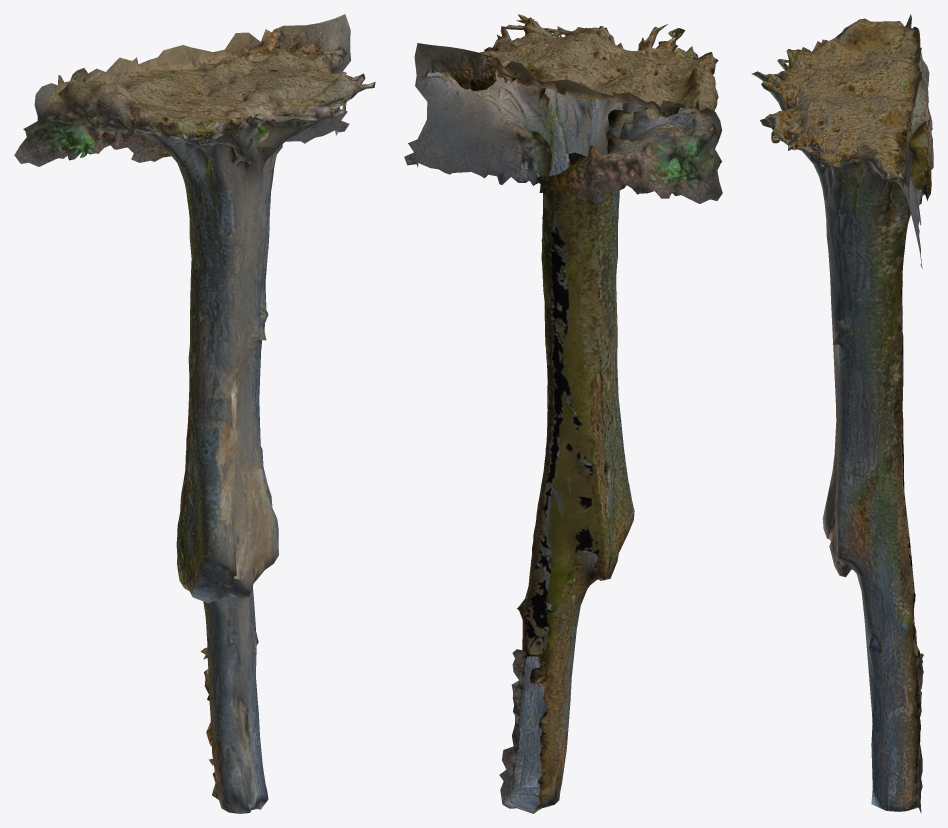
The model's file is tree.gltf.
The picture shows the model from 3 angles, left to right: view 1: azimuth 30°, elevation 25°; view 2: azimuth 150°, elevation 25°; view 3: azimuth 270°, elevation 25°; orthographic projection. The views are drawn at different scales.
Visible parts, largest first — view 1: Object_2; view 2: Object_2; view 3: Object_2.
Boxes of the visible parts, x1,y1,x2,y2 form: Object_2: (14,14,375,813); Object_2: (404,14,722,813); Object_2: (751,14,933,813).
Size of the model in its own units: 10.43 by 23.34 by 5.37.
